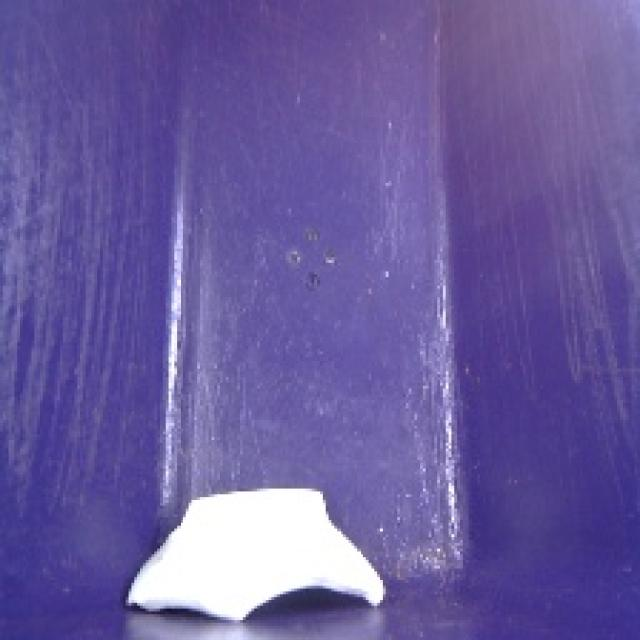china: (101, 473, 395, 632)
